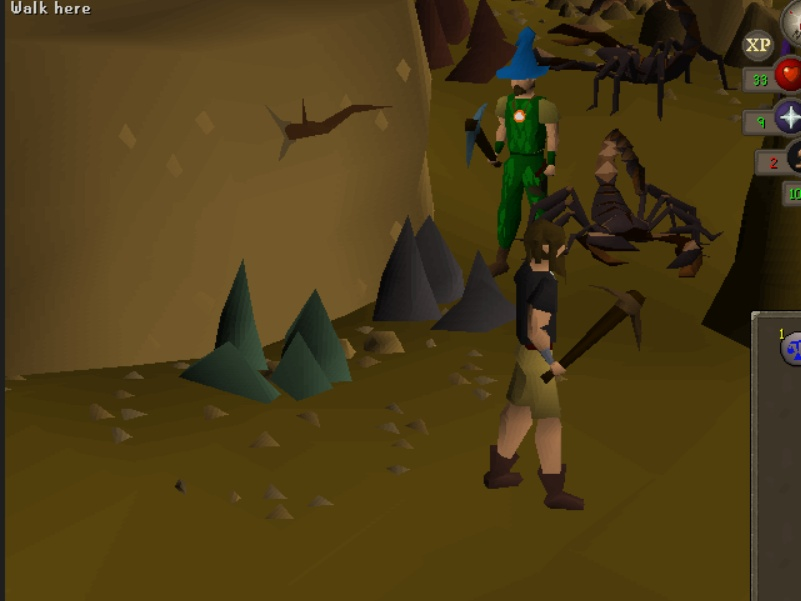adamant: (167, 237, 358, 406)
iron: (405, 1, 514, 90)
